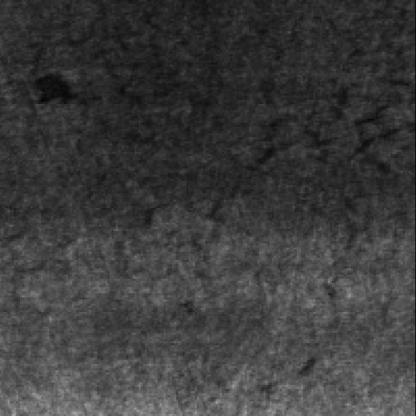crazing: (249, 0, 409, 254), (66, 0, 240, 231)
